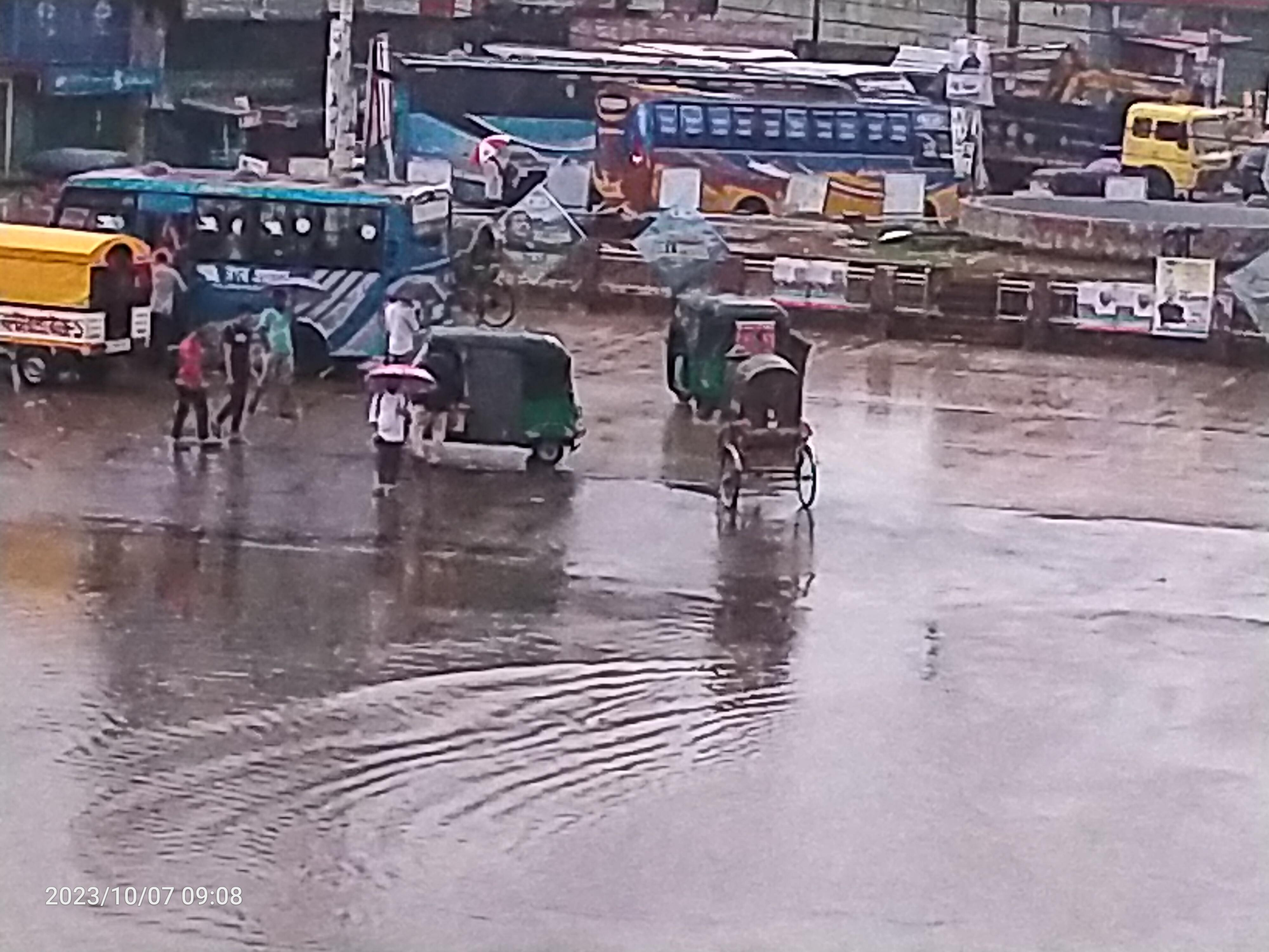Bus: (18, 112, 461, 384), (353, 0, 779, 201), (571, 48, 971, 255)
Car: (683, 332, 859, 562), (0, 205, 171, 406)
Truck: (967, 62, 1245, 216)
